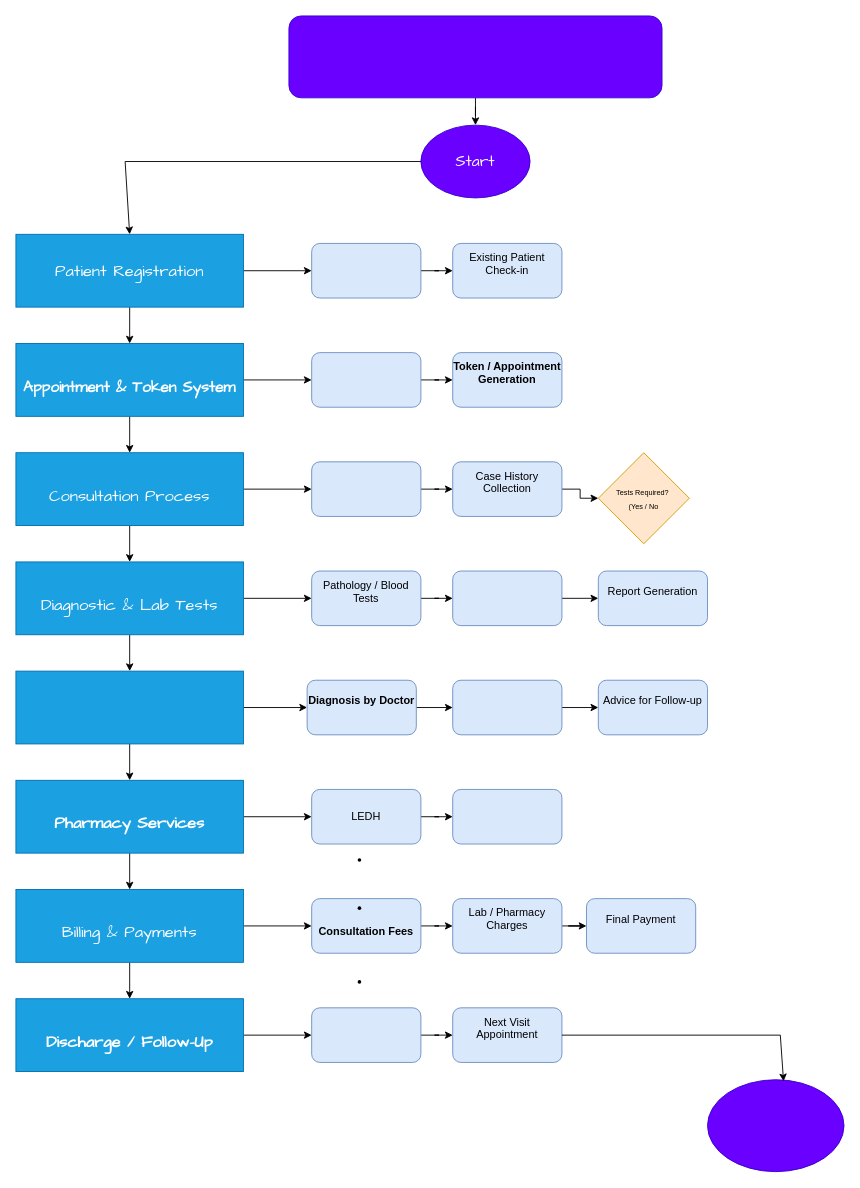
Some shapes in this 860 by 1188 pixel diagram are drawn without their labels. Each missing label, with the centre of its shape:
"Department Selection" goes at (x=366, y=379).
"Discharge Summary" goes at (x=366, y=1034).
"Doctor Examination" goes at (x=366, y=488).
"END" goes at (x=775, y=1125).
"Hospital Process Flowchart" goes at (x=475, y=56).
"Medicine Collection" goes at (x=507, y=816).
"Medicine Prescription" goes at (x=507, y=707).
"New Patient Registration" goes at (x=366, y=270).
"Treatment & Prescription" goes at (x=129, y=707).
"X-Ray / Scan" goes at (x=507, y=598).
